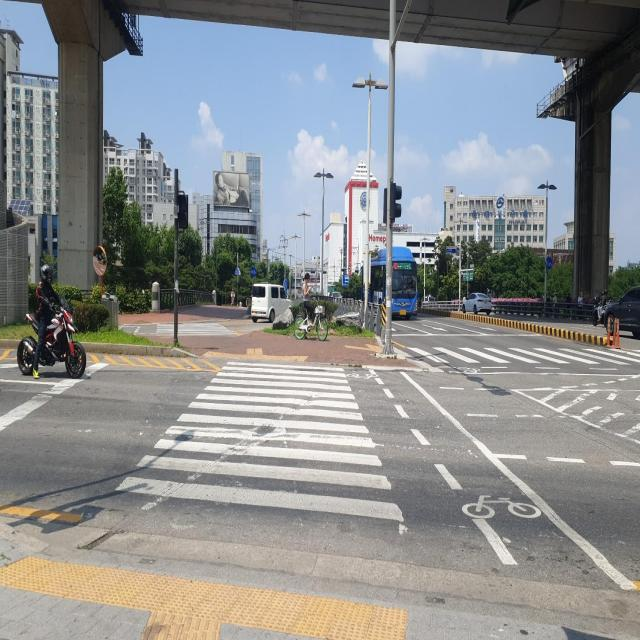횡단보도: (114, 357, 406, 528), (411, 346, 640, 372), (154, 321, 237, 336)
